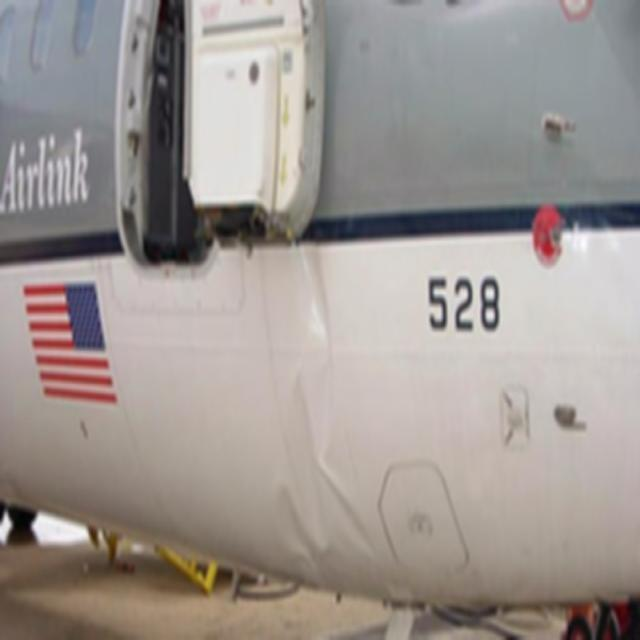dent: (268, 255, 385, 592)
